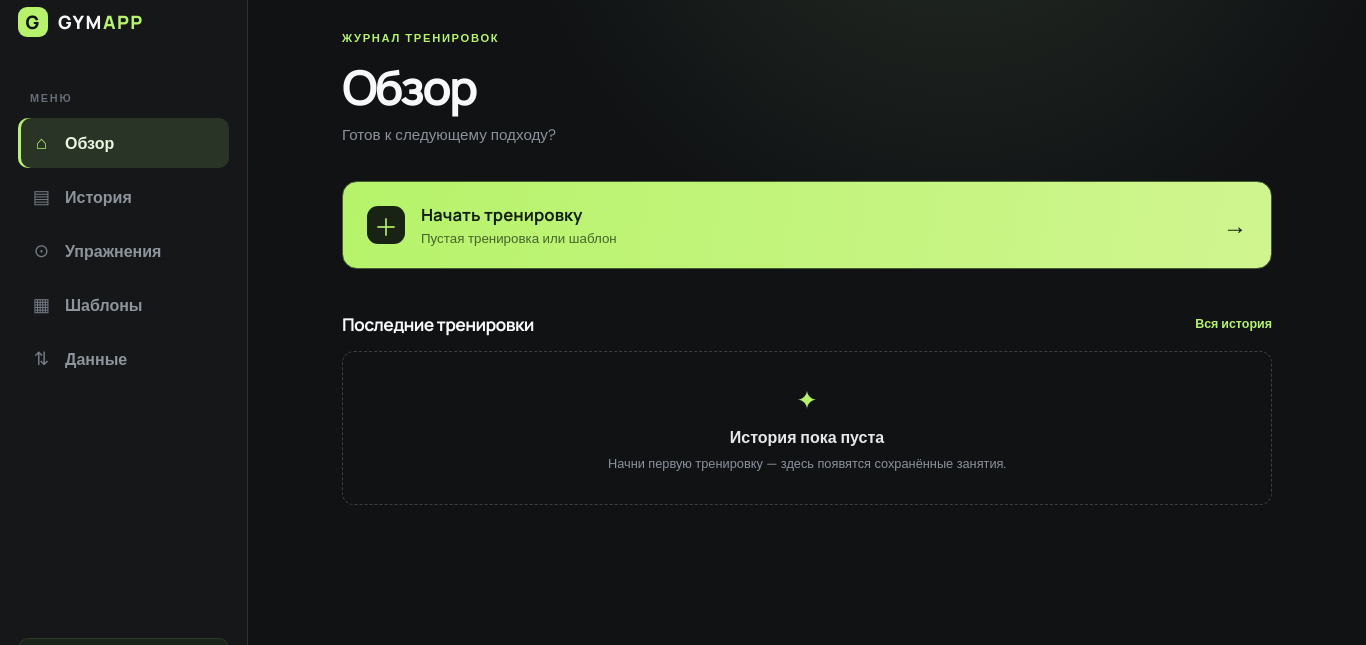
Scenario: App › refreshes the shared exercise catalogue after deletion
The image size is (1366, 645).
Step 1. Click the button "⊙ Упражнения" → x=124, y=251, box [18,226,229,276]
(page scrolled)
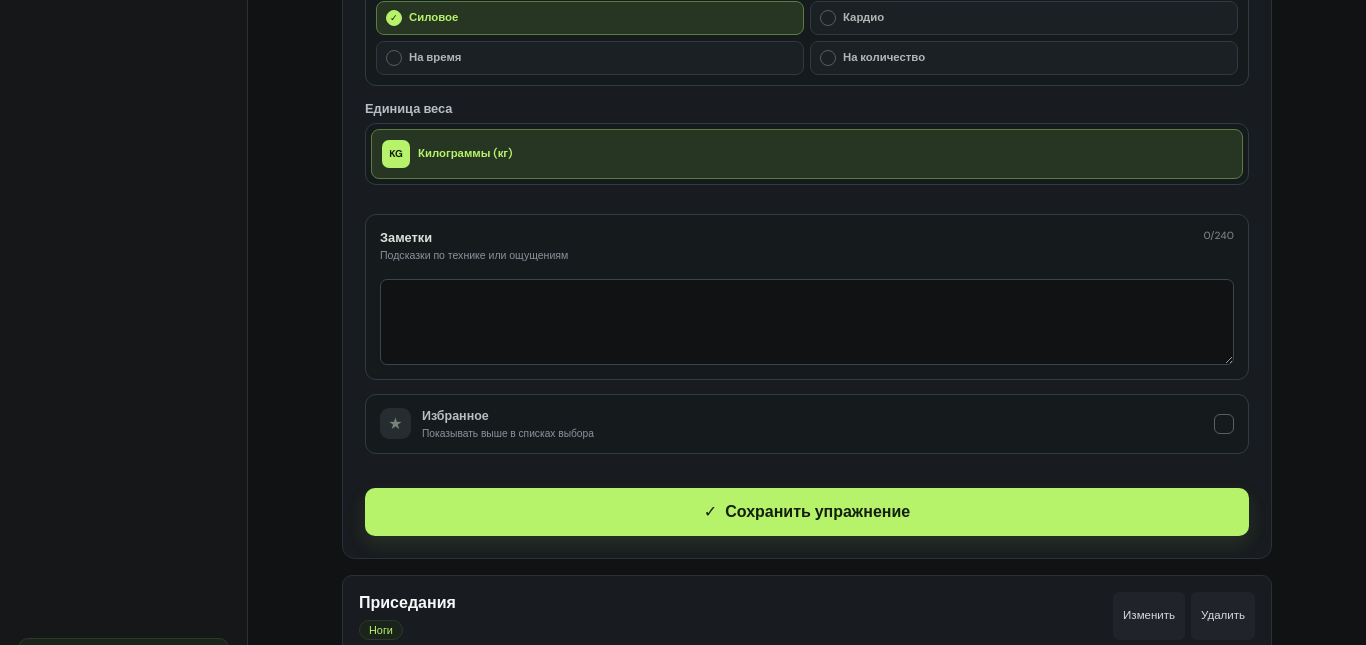
Step 2. Click the button with aria-label "Удалить Приседания" → x=1223, y=616, box [1191,592,1255,640]
(page scrolled)
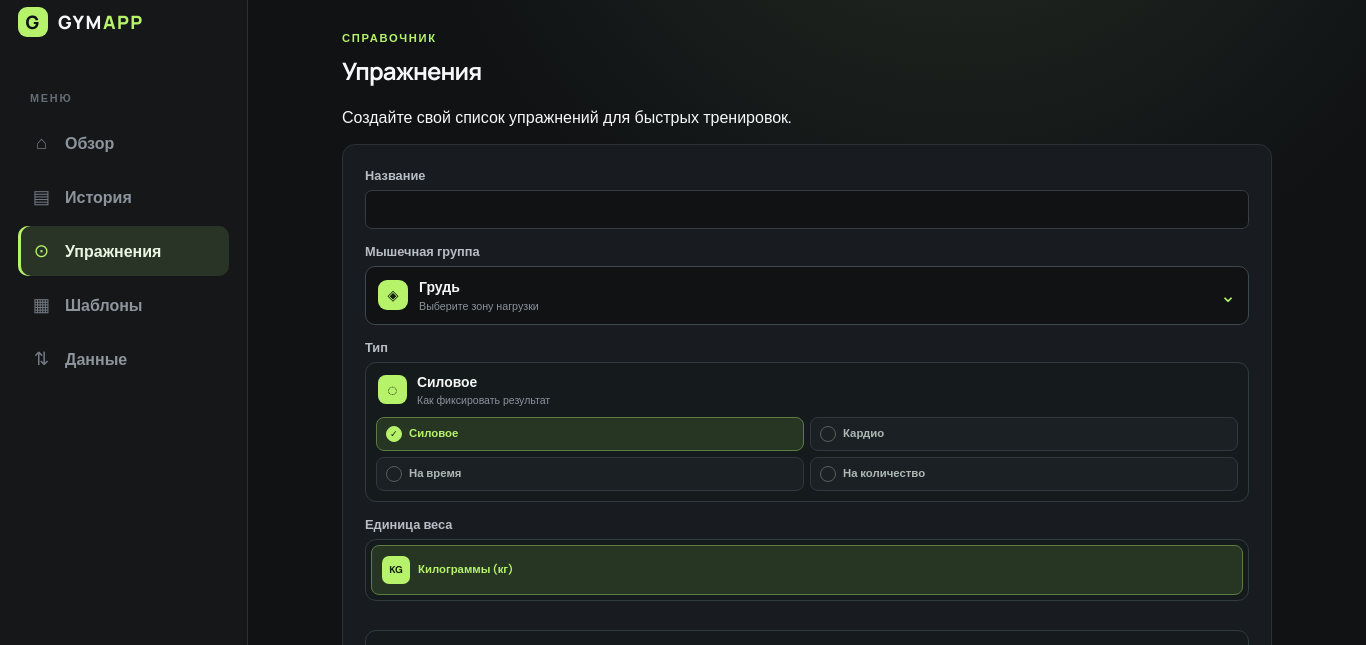
Step 3. Click the button "▤ История" → x=124, y=197, box [18,172,229,222]
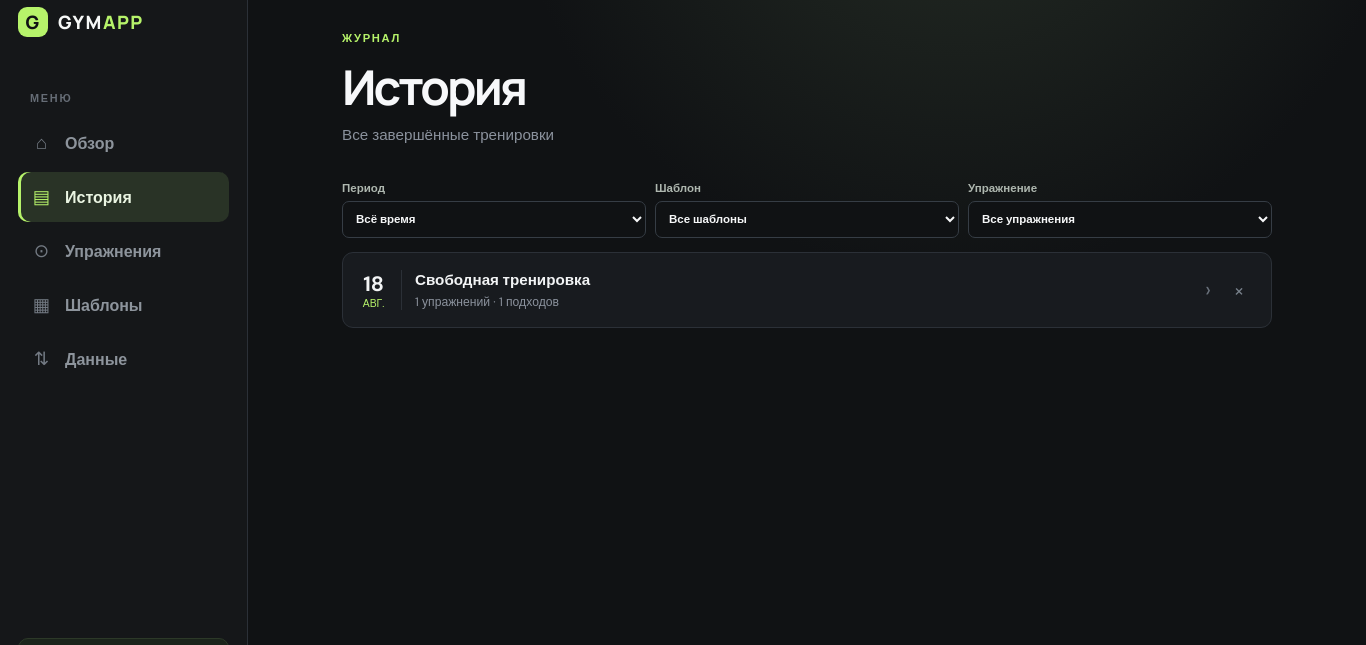
Step 4. Click the button with aria-label "Открыть тренировку Свободная тренировка" → x=381, y=290, box [360,270,1211,310]
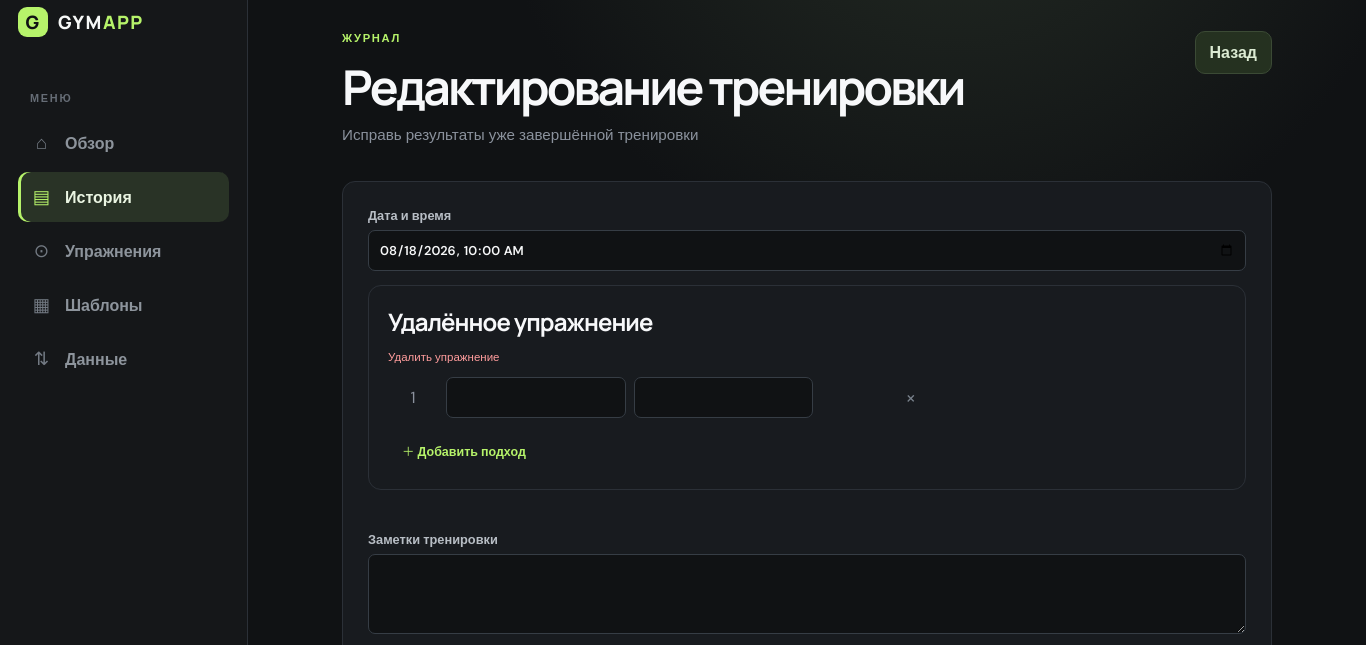
Now the heading "Удалённое упражнение" is shown, box [388,305,652,338]
